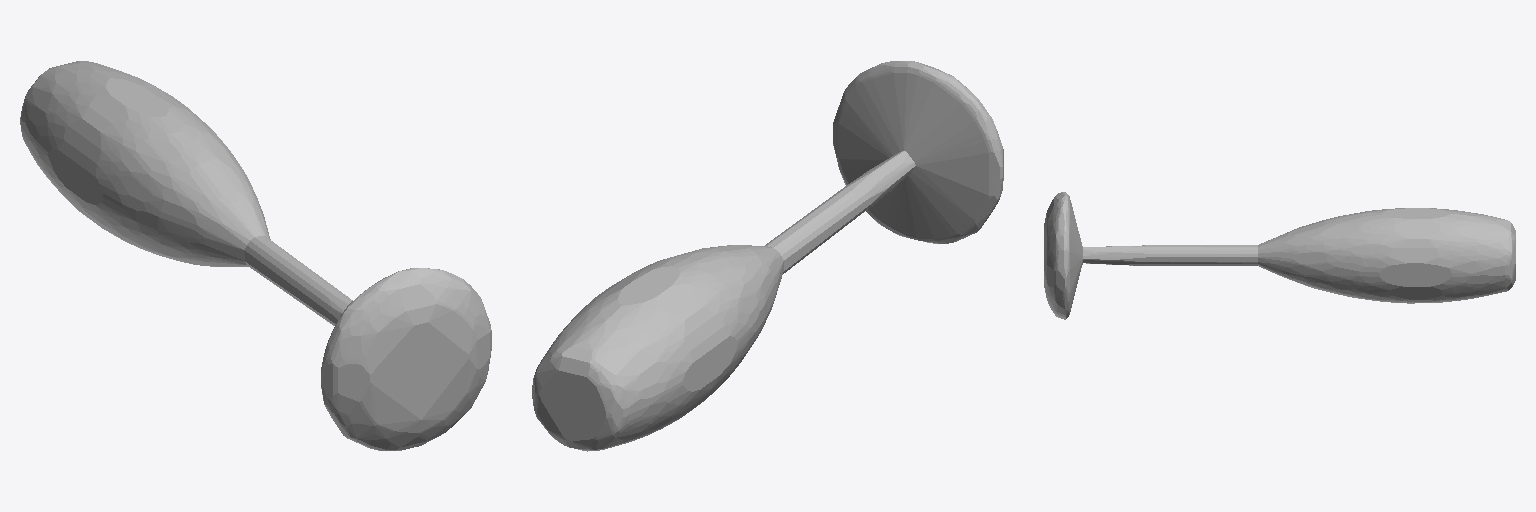
The robot description file, URDF, robot "root":
<robot name="root">
  <link name="link_coacd_convex_piece_0">
    <inertial>
      <origin xyz="0 0 0" rpy="0 0 0"/>
      <inertia ixx="1.41E-02" ixy="-8.06E-07" ixz="-6.40E-06" iyy="1.41E-02" iyz="1.16E-05" izz="5.08E-04"/>
    </inertial>
    <visual>
      <origin xyz="0 0 0" rpy="0 0 0"/>
      <geometry>
        <mesh filename="coacd_convex_piece_0.obj" scale="1.0000E+00 1.0000E+00 1.0000E+00"/>
      </geometry>
      <material name="">
        <color rgba="7.50E-01 7.50E-01 7.50E-01 1"/>
      </material>
    </visual>
    <collision>
      <origin xyz="0 0 0" rpy="0 0 0"/>
      <geometry>
        <mesh filename="coacd_convex_piece_0.obj" scale="1.0000E+00 1.0000E+00 1.0000E+00"/>
      </geometry>
    </collision>
  </link>
  <link name="link_coacd_convex_piece_1">
    <inertial>
      <origin xyz="0 0 0" rpy="0 0 0"/>
      <inertia ixx="2.02E-02" ixy="4.24E-07" ixz="-3.84E-06" iyy="2.02E-02" iyz="-1.70E-05" izz="1.15E-03"/>
    </inertial>
    <visual>
      <origin xyz="0 0 0" rpy="0 0 0"/>
      <geometry>
        <mesh filename="coacd_convex_piece_1.obj" scale="1.0000E+00 1.0000E+00 1.0000E+00"/>
      </geometry>
      <material name="">
        <color rgba="7.50E-01 7.50E-01 7.50E-01 1"/>
      </material>
    </visual>
    <collision>
      <origin xyz="0 0 0" rpy="0 0 0"/>
      <geometry>
        <mesh filename="coacd_convex_piece_1.obj" scale="1.0000E+00 1.0000E+00 1.0000E+00"/>
      </geometry>
    </collision>
  </link>
  <joint name="link_coacd_convex_piece_1_joint" type="fixed">
    <origin xyz="0 0 0" rpy="0 0 0"/>
    <parent link="link_coacd_convex_piece_0"/>
    <child link="link_coacd_convex_piece_1"/>
  </joint>
  <link name="link_coacd_convex_piece_2">
    <inertial>
      <origin xyz="0 0 0" rpy="0 0 0"/>
      <inertia ixx="5.33E-04" ixy="4.07E-08" ixz="-2.04E-07" iyy="5.33E-04" iyz="1.33E-06" izz="2.91E-06"/>
    </inertial>
    <visual>
      <origin xyz="0 0 0" rpy="0 0 0"/>
      <geometry>
        <mesh filename="coacd_convex_piece_2.obj" scale="1.0000E+00 1.0000E+00 1.0000E+00"/>
      </geometry>
      <material name="">
        <color rgba="7.50E-01 7.50E-01 7.50E-01 1"/>
      </material>
    </visual>
    <collision>
      <origin xyz="0 0 0" rpy="0 0 0"/>
      <geometry>
        <mesh filename="coacd_convex_piece_2.obj" scale="1.0000E+00 1.0000E+00 1.0000E+00"/>
      </geometry>
    </collision>
  </link>
  <joint name="link_coacd_convex_piece_2_joint" type="fixed">
    <origin xyz="0 0 0" rpy="0 0 0"/>
    <parent link="link_coacd_convex_piece_1"/>
    <child link="link_coacd_convex_piece_2"/>
  </joint>
</robot>

--- Render facts (derived) ---
3 views of the same robot in one strip: view 1: azimuth 30°, elevation 25°; view 2: azimuth 150°, elevation 25°; view 3: azimuth 270°, elevation 25° (orthographic).
Robot: root — 3 links, 2 joints (2 fixed); root link link_coacd_convex_piece_0; default pose: every joint at zero.
Links seen in each view (by area): view 1: link_coacd_convex_piece_1, link_coacd_convex_piece_0, link_coacd_convex_piece_2; view 2: link_coacd_convex_piece_1, link_coacd_convex_piece_0, link_coacd_convex_piece_2; view 3: link_coacd_convex_piece_1, link_coacd_convex_piece_0, link_coacd_convex_piece_2.
Boxes of the visible links, bbox=[...] form: link_coacd_convex_piece_1: bbox=[20, 61, 270, 266]; link_coacd_convex_piece_0: bbox=[321, 268, 491, 450]; link_coacd_convex_piece_2: bbox=[245, 236, 352, 325]; link_coacd_convex_piece_1: bbox=[532, 245, 783, 451]; link_coacd_convex_piece_0: bbox=[833, 61, 1003, 243]; link_coacd_convex_piece_2: bbox=[765, 151, 915, 273]; link_coacd_convex_piece_1: bbox=[1258, 208, 1515, 303]; link_coacd_convex_piece_0: bbox=[1044, 192, 1082, 319]; link_coacd_convex_piece_2: bbox=[1083, 245, 1257, 265].
Size in the robot's own frame: 0.5257 by 1.93 by 0.5257 metres.
3 mesh visuals loaded from 3 distinct referenced files (3 OBJ).
